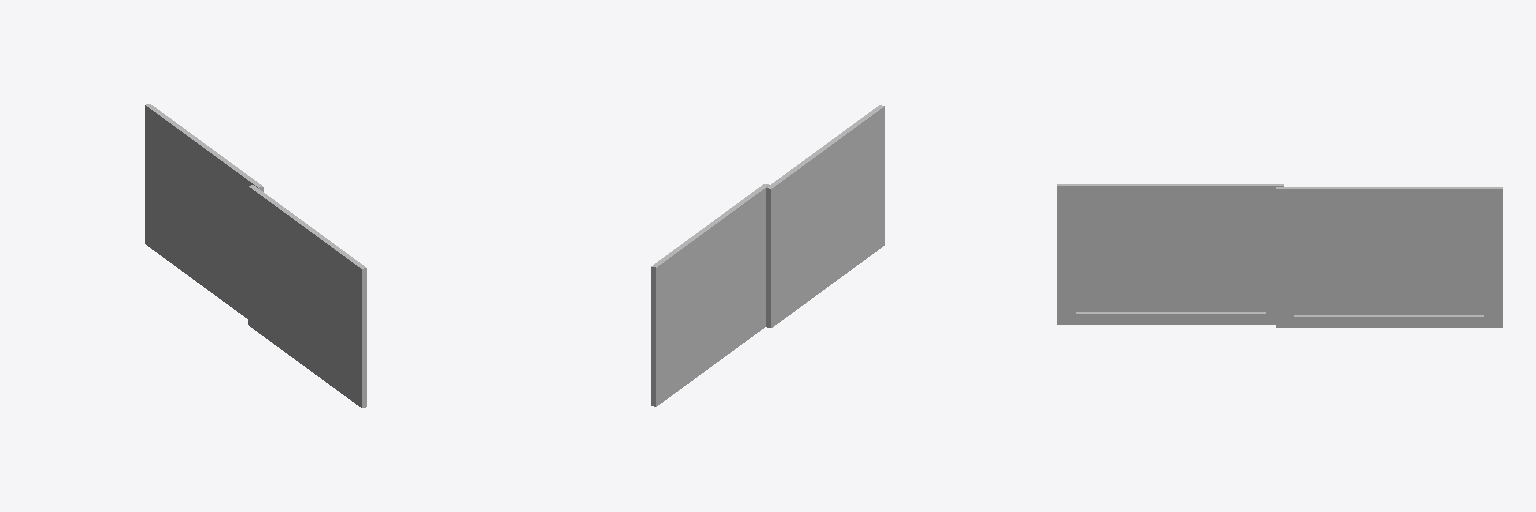
File: janela.obj
3 renders of one model, left to right at view 1: azimuth 30°, elevation 25°; view 2: azimuth 150°, elevation 25°; view 3: azimuth 270°, elevation 25°, orthographic.
Visible parts, largest first — view 1: Cube, Cube.001; view 2: Cube, Cube.001; view 3: Cube.001, Cube.
Part boxes in pixels (x1,y1,x2,y2): Cube: (248, 185, 366, 407); Cube.001: (145, 104, 263, 318); Cube: (766, 105, 884, 327); Cube.001: (651, 184, 769, 406); Cube.001: (1276, 187, 1502, 327); Cube: (1057, 184, 1283, 324).
Bounding box in the file's own units: 0.0639 × 0.78 × 2.26.